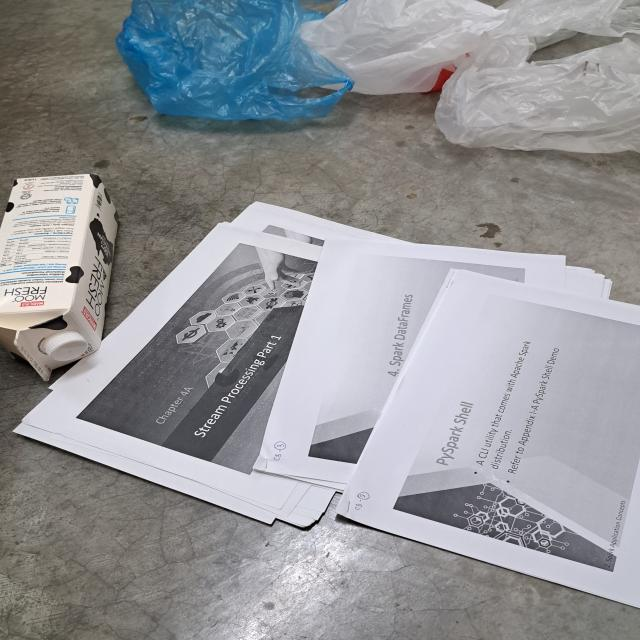drink carton: (0, 172, 123, 382)
paper: (5, 200, 640, 609)
plastic bag: (115, 0, 353, 121), (435, 38, 640, 151), (299, 0, 505, 93)
plastic bottle cap: (41, 333, 90, 361)
